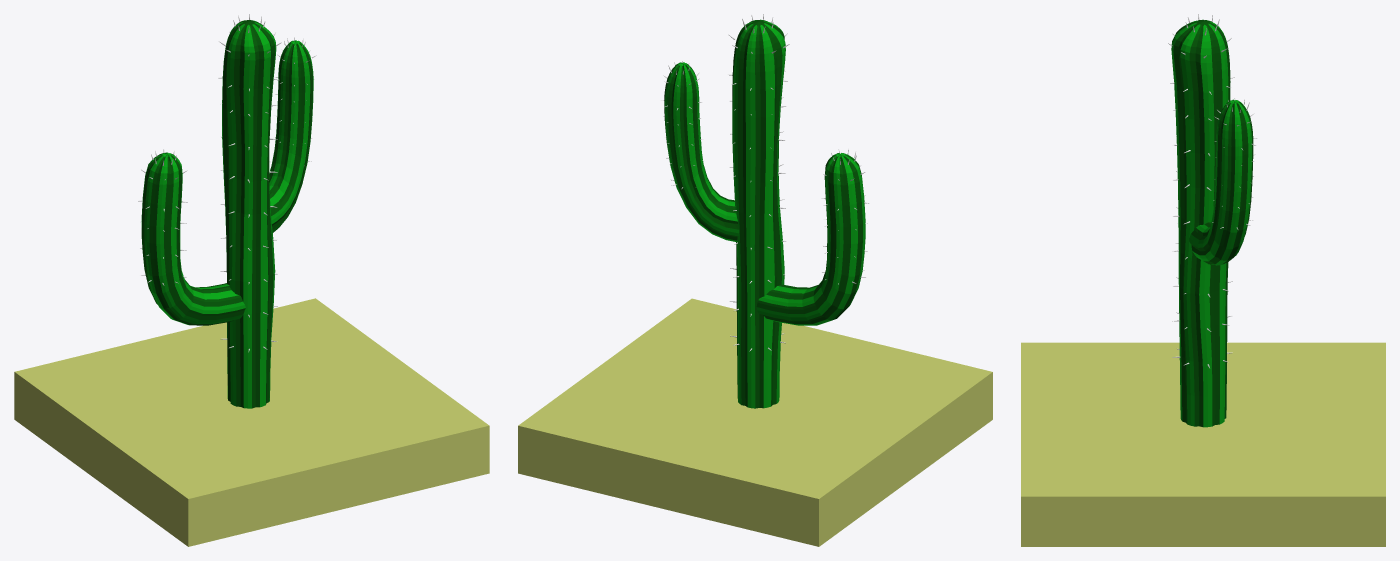
File: Cactus.fbx
3 views of the same model, side by side, from view 1: azimuth 30°, elevation 25°; view 2: azimuth 150°, elevation 25°; view 3: azimuth 270°, elevation 25° (orthographic). The views are drawn at different scales.
Parts seen in each view (by area): view 1: Cube.003, Cube; view 2: Cube.003, Cube; view 3: Cube.003, Cube.
Boxes of the visible parts, left/top/right/bottom form: Cube.003: left=14, top=298, right=489, bottom=546; Cube: left=138, top=14, right=316, bottom=408; Cube.003: left=518, top=298, right=992, bottom=546; Cube: left=661, top=14, right=868, bottom=408; Cube.003: left=1021, top=342, right=1385, bottom=546; Cube: left=1168, top=14, right=1256, bottom=427.
Bounding box in the file's own units: 163 × 221 × 163.
